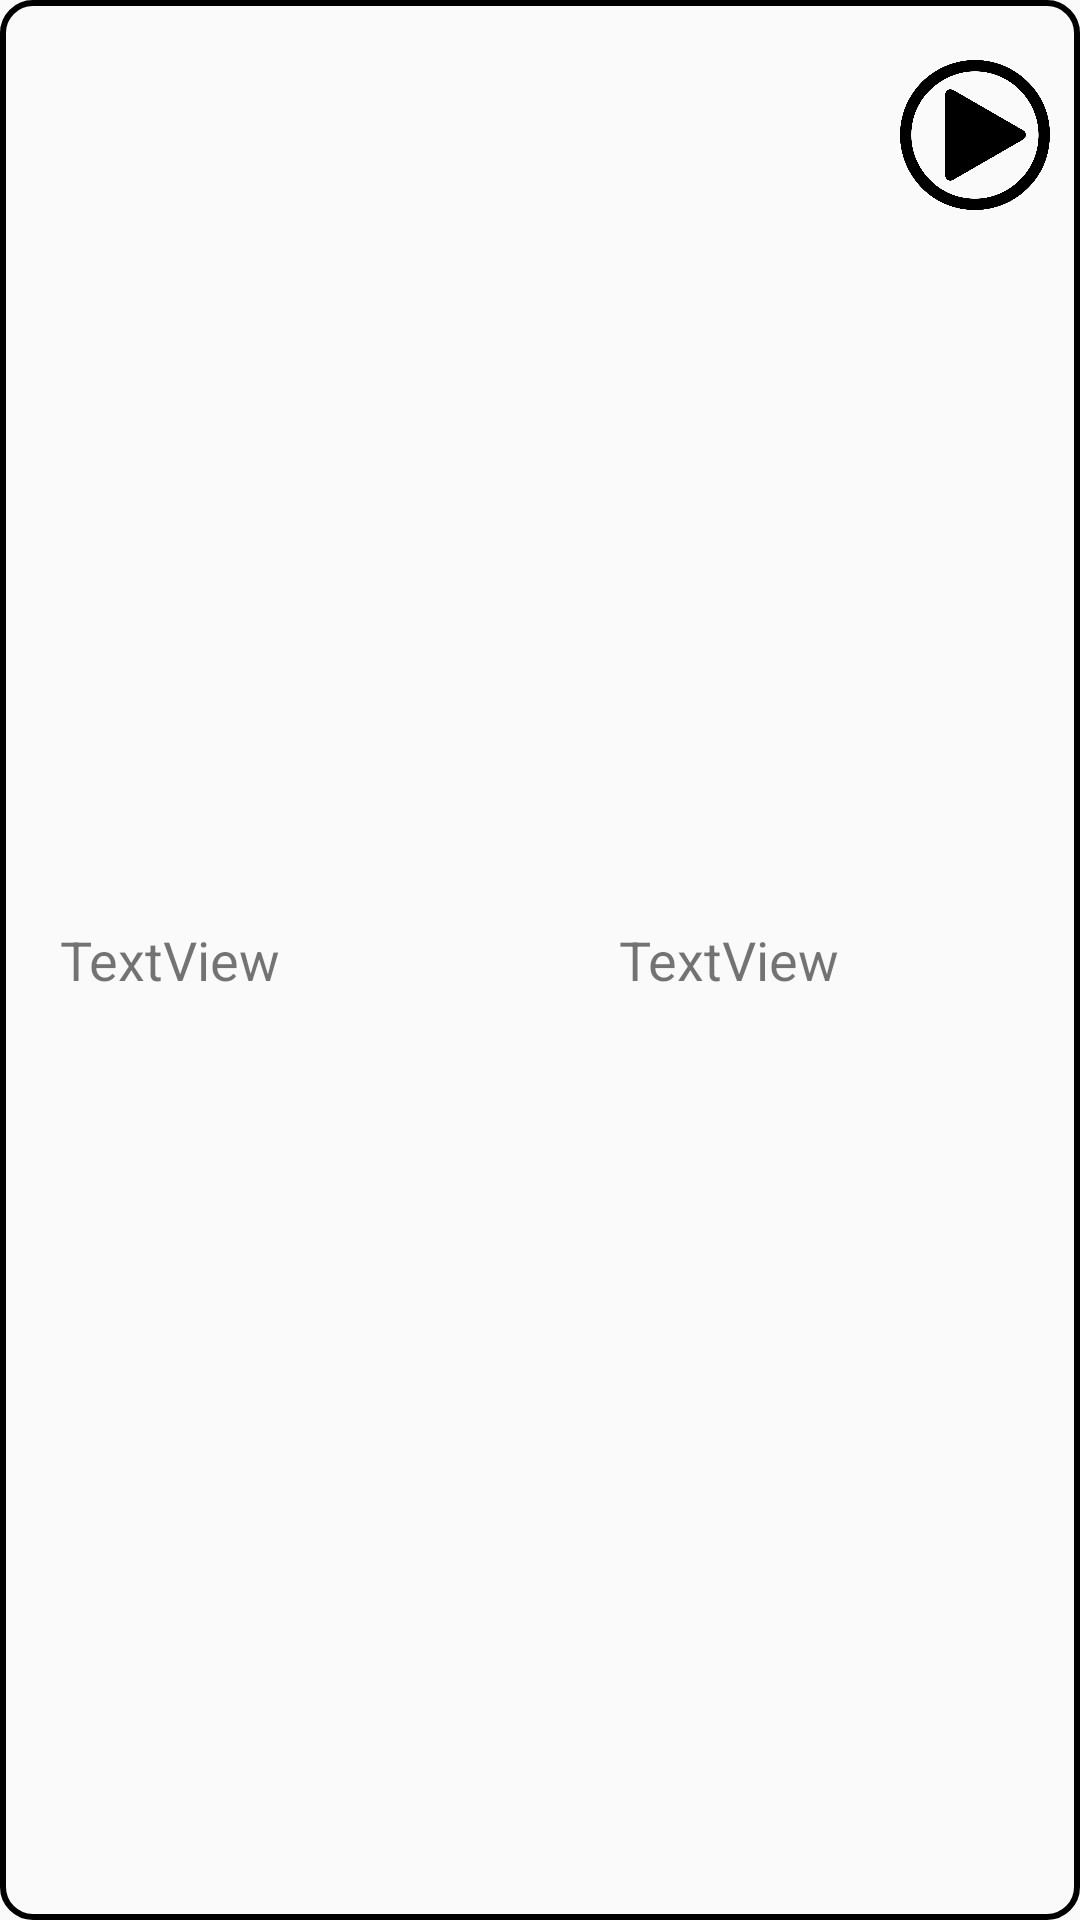

Locate icon controls on the screen. Image size 1080*1920, boxes as (x1, y1, x2, y2).
start: (900, 60, 1050, 210)
